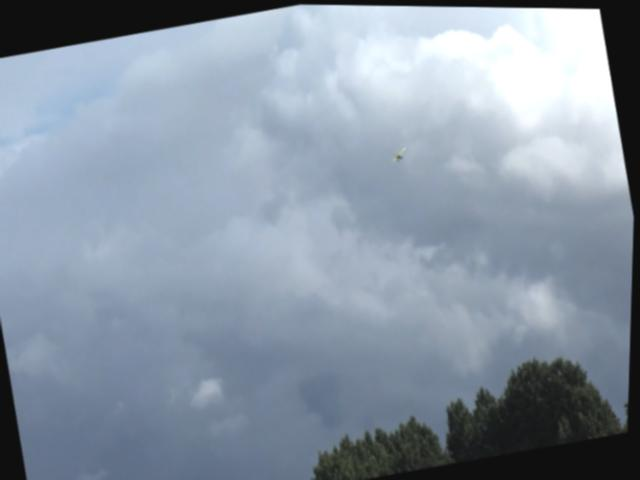plane: (392, 144, 410, 161)
